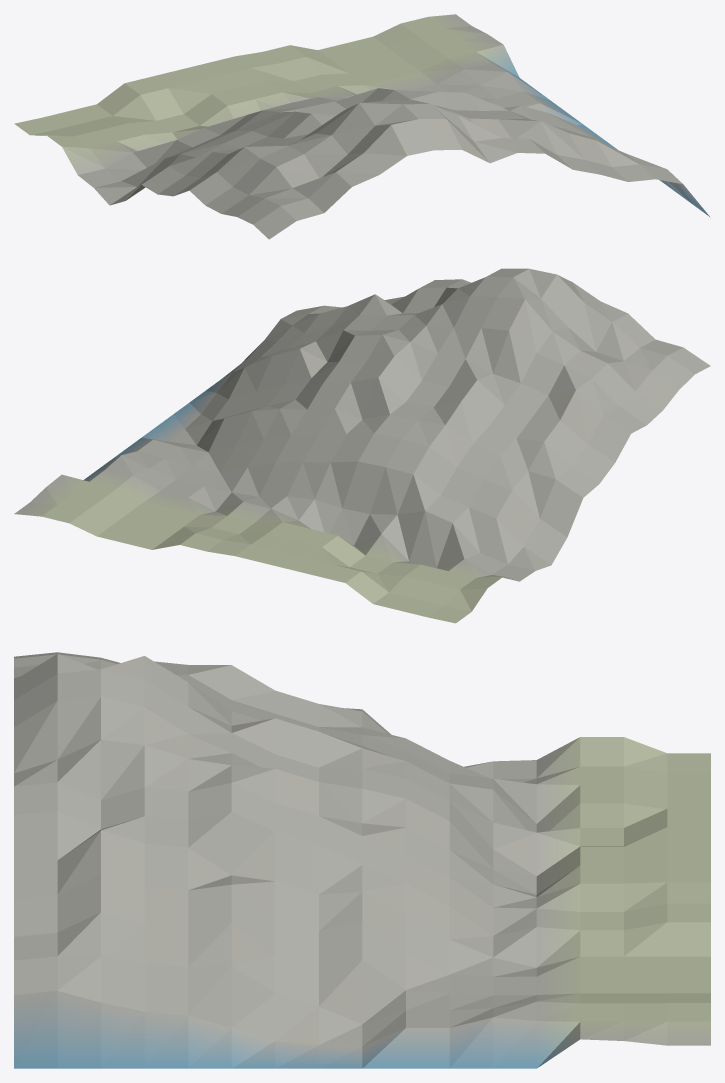
The picture shows the model from 3 angles, top to bottom: view 1: azimuth 30°, elevation 25°; view 2: azimuth 150°, elevation 25°; view 3: azimuth 270°, elevation 25°; orthographic projection. The views are drawn at different scales.
Bounding box in the file's own units: 32 × 10.91 × 32.
